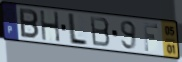9: (119, 19, 138, 50)
B: (89, 15, 112, 48), (19, 7, 41, 41)
F: (141, 22, 159, 52)
H: (38, 10, 62, 43)
L: (68, 12, 89, 48)
